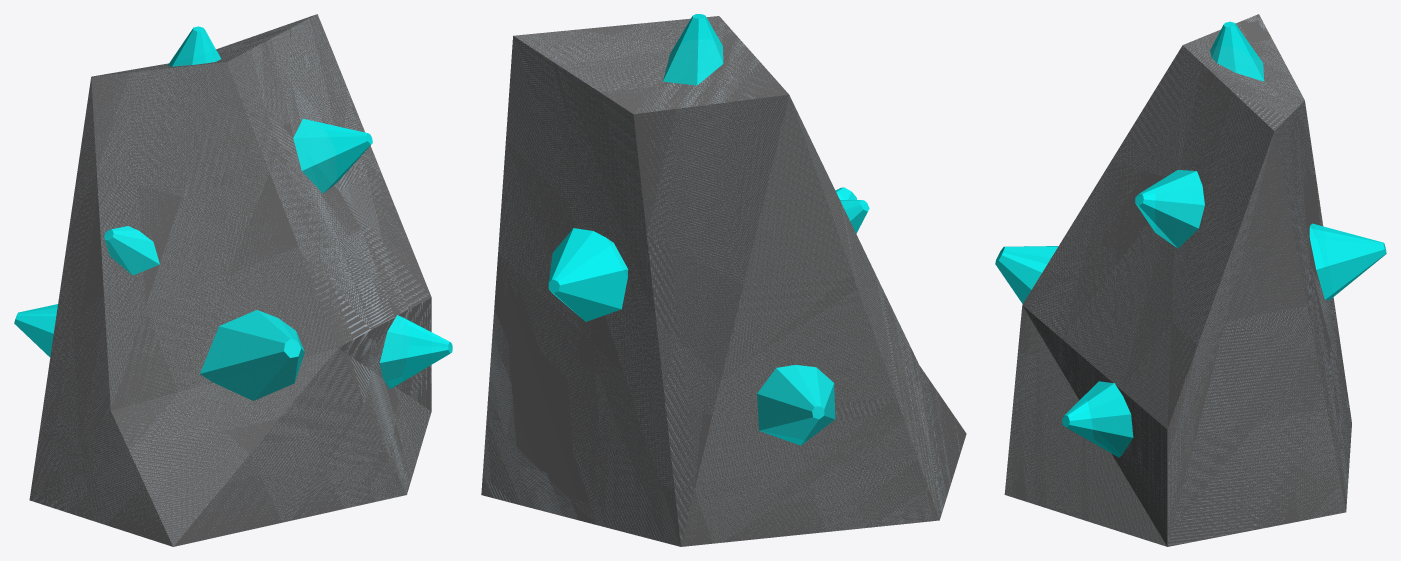
Rendered from Ore_Node_02.fbx.
3 views of the same model, side by side, from view 1: azimuth 30°, elevation 25°; view 2: azimuth 150°, elevation 25°; view 3: azimuth 270°, elevation 25° (orthographic). The views are drawn at different scales.
Visible parts, largest first — view 1: Model; view 2: Model; view 3: Model.
Part boxes in pixels (x1,y1,x2,y2): Model: [14, 14, 452, 546]; Model: [481, 14, 966, 546]; Model: [995, 14, 1386, 546].
Bounding box in the file's own units: 204 × 226 × 172.
